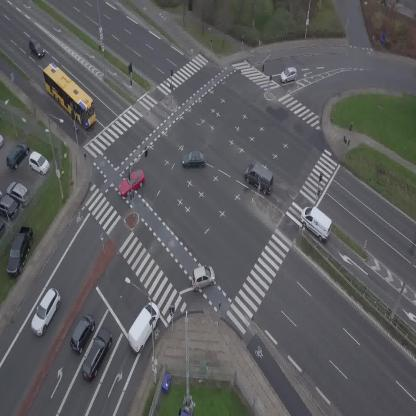bus: (34, 60, 105, 131)
car: (78, 326, 117, 384), (25, 286, 66, 338), (65, 311, 100, 355), (114, 167, 150, 199), (187, 262, 219, 292), (25, 37, 47, 61), (182, 151, 206, 167), (279, 66, 298, 84)
lorry: (122, 299, 165, 355), (295, 202, 339, 244), (240, 160, 281, 197)
